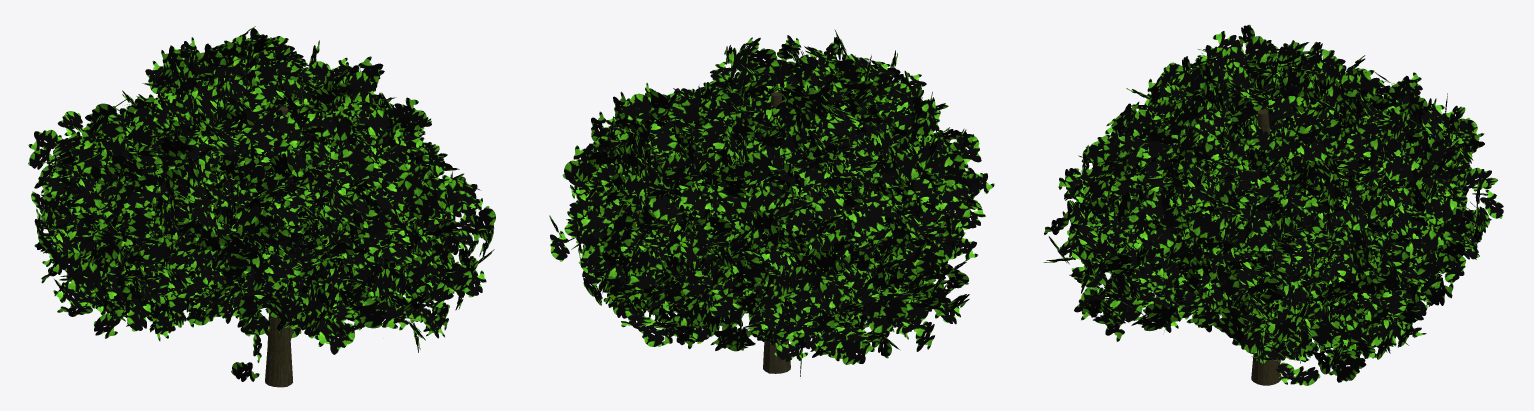
File: understory_laurel_v01.fbx
The picture shows the model from 3 angles, left to right: view 1: azimuth 30°, elevation 25°; view 2: azimuth 150°, elevation 25°; view 3: azimuth 270°, elevation 25°; orthographic projection.
Parts seen in each view (by area): view 1: understory_laurel_v01; view 2: understory_laurel_v01; view 3: understory_laurel_v01.
Boxes of the visible parts, x1,y1,x2,y2 form: understory_laurel_v01: [28, 26, 495, 387]; understory_laurel_v01: [549, 29, 994, 376]; understory_laurel_v01: [1043, 24, 1503, 385].
Bounding box in the file's own units: 872 × 903 × 682.
Materials: 2 (2 with a texture image).
